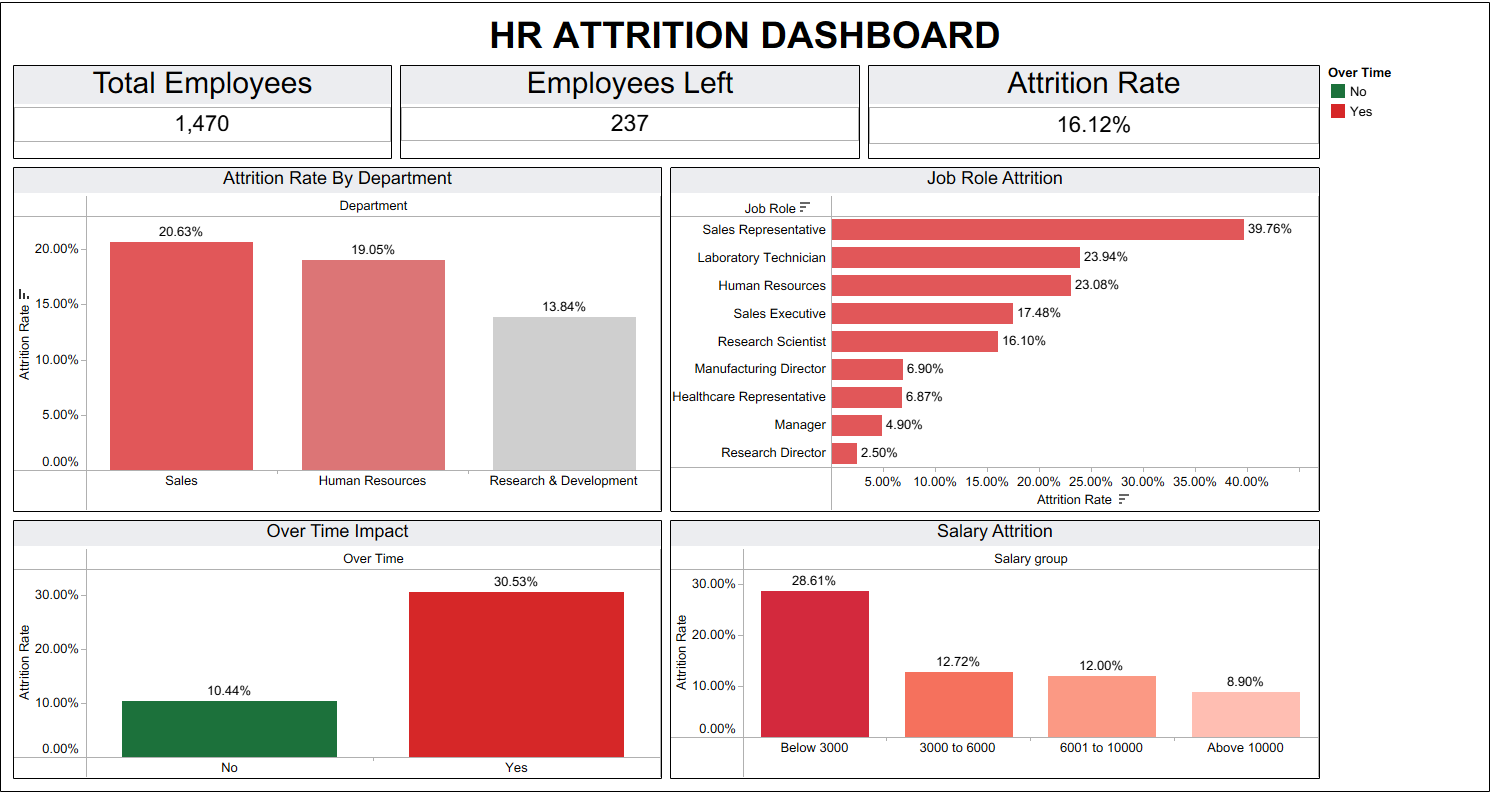

What the dashboard file says about the page in this screenshot:
{"tool":"tableau","page":{"name":"Dashboard 2 (2)","canvas":[1500,800],"ordinal":2},"visuals":[{"type":"title","box":[14,14,1472,50]},{"type":"worksheet","title":"Sheet 8","mark":"Text","box":[14,64,387.1,102.2]},{"type":"worksheet","title":"Sheet 10","mark":"Text","box":[401.1,64,467.8,102.2]},{"type":"worksheet","title":"Sheet 9","mark":"Automatic","box":[868.9,64,460.1,102.2]},{"type":"legend","title":"Sheet 5","param":"[federated.0l0g2p10uhbs0n142pk411hvjrf2].[none:OverTime:nk]","box":[1329,64,157,416]},{"type":"worksheet","title":"Sheet 3","mark":"Automatic","rows":["Calculation_2295783436709888"],"cols":["Department"],"box":[14,166.2,657.5,353.1]},{"type":"worksheet","title":"Sheet 4","mark":"Automatic","rows":["JobRole"],"cols":["Calculation_2295783436709888"],"box":[671.5,166.2,657.5,352.7]},{"type":"worksheet","title":"Sheet 6","mark":"Automatic","rows":["Calculation_2295783436709888"],"cols":["Calculation_2295783648276483"],"box":[671.5,519,657.5,267]},{"type":"worksheet","title":"Sheet 5","mark":"Bar","rows":["Calculation_2295783436709888"],"cols":["OverTime"],"box":[14,519.4,657.5,266.6]}]}

Visuals, with their boxes in screenshot pixels (x1, y1, x2, y2), scaled from the page's 1500x800 canvas onto the 1492x793 screenshot:
title: (x1=14, y1=14, x2=1478, y2=63)
"Sheet 8" worksheet (Text marks): (x1=14, y1=63, x2=399, y2=165)
"Sheet 10" worksheet (Text marks): (x1=399, y1=63, x2=864, y2=165)
"Sheet 9" worksheet: (x1=864, y1=63, x2=1322, y2=165)
"Sheet 5" legend: (x1=1322, y1=63, x2=1478, y2=476)
"Sheet 3" worksheet: (x1=14, y1=165, x2=668, y2=515)
"Sheet 4" worksheet: (x1=668, y1=165, x2=1322, y2=514)
"Sheet 6" worksheet: (x1=668, y1=514, x2=1322, y2=779)
"Sheet 5" worksheet (Bar marks): (x1=14, y1=515, x2=668, y2=779)
